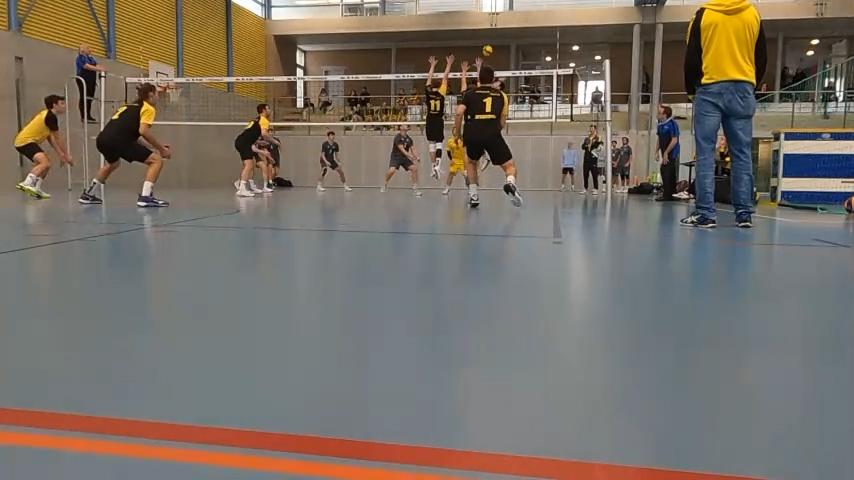muro: (420, 51, 454, 181), (461, 54, 484, 92)
